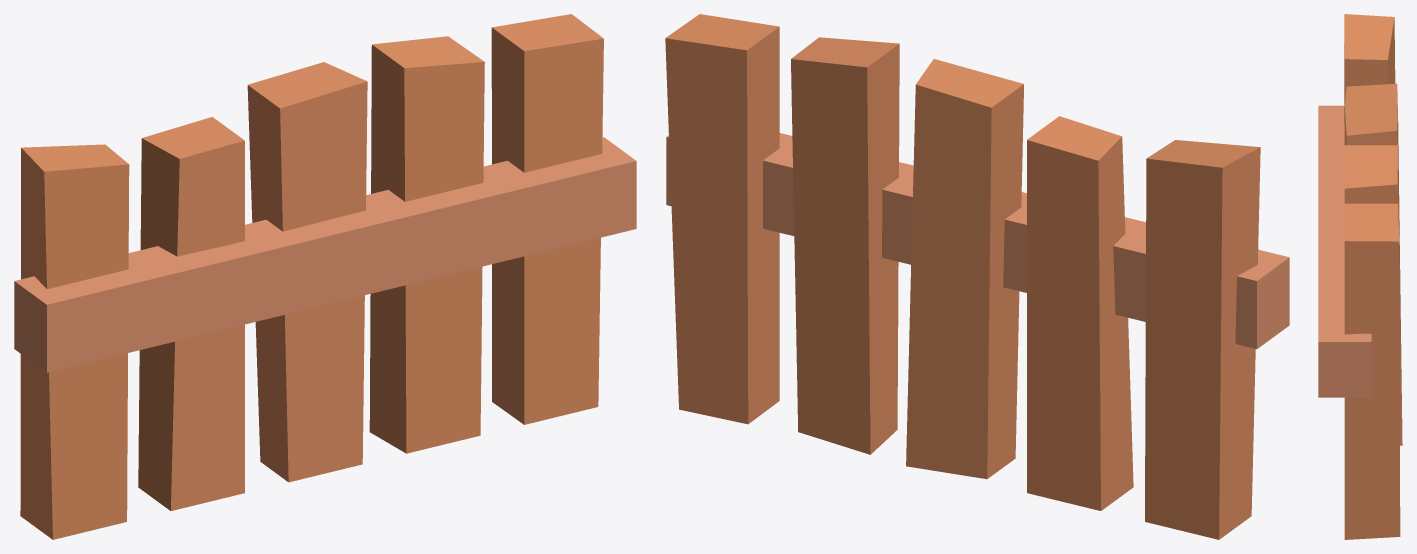
The model's file is Fance.fbx.
The picture shows the model from 3 angles, left to right: view 1: azimuth 30°, elevation 25°; view 2: azimuth 150°, elevation 25°; view 3: azimuth 270°, elevation 25°; orthographic projection. The views are drawn at different scales.
Parts seen in each view (by area): view 1: Fence; view 2: Fence; view 3: Fence.
Boxes of the visible parts, x1,y1,x2,y2 form: Fence: [14, 14, 636, 539]; Fence: [665, 14, 1289, 539]; Fence: [1318, 14, 1402, 539].
Size of the model in its own units: 226 by 142 by 34.04.
